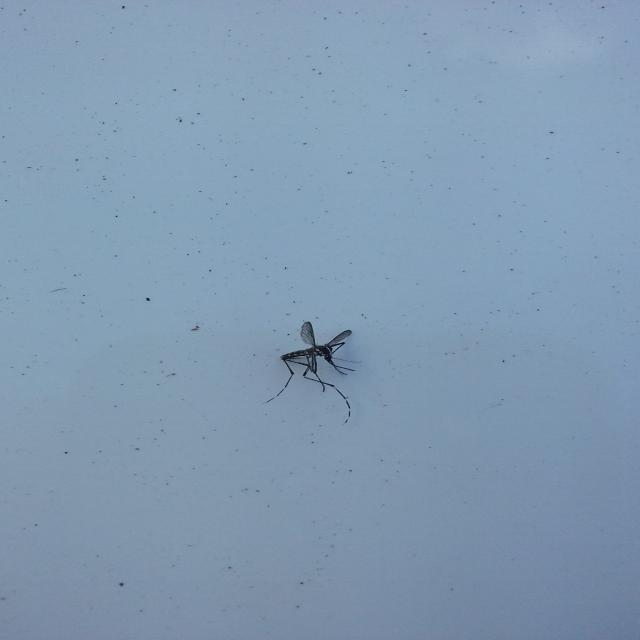albopictus: (264, 321, 368, 429)
